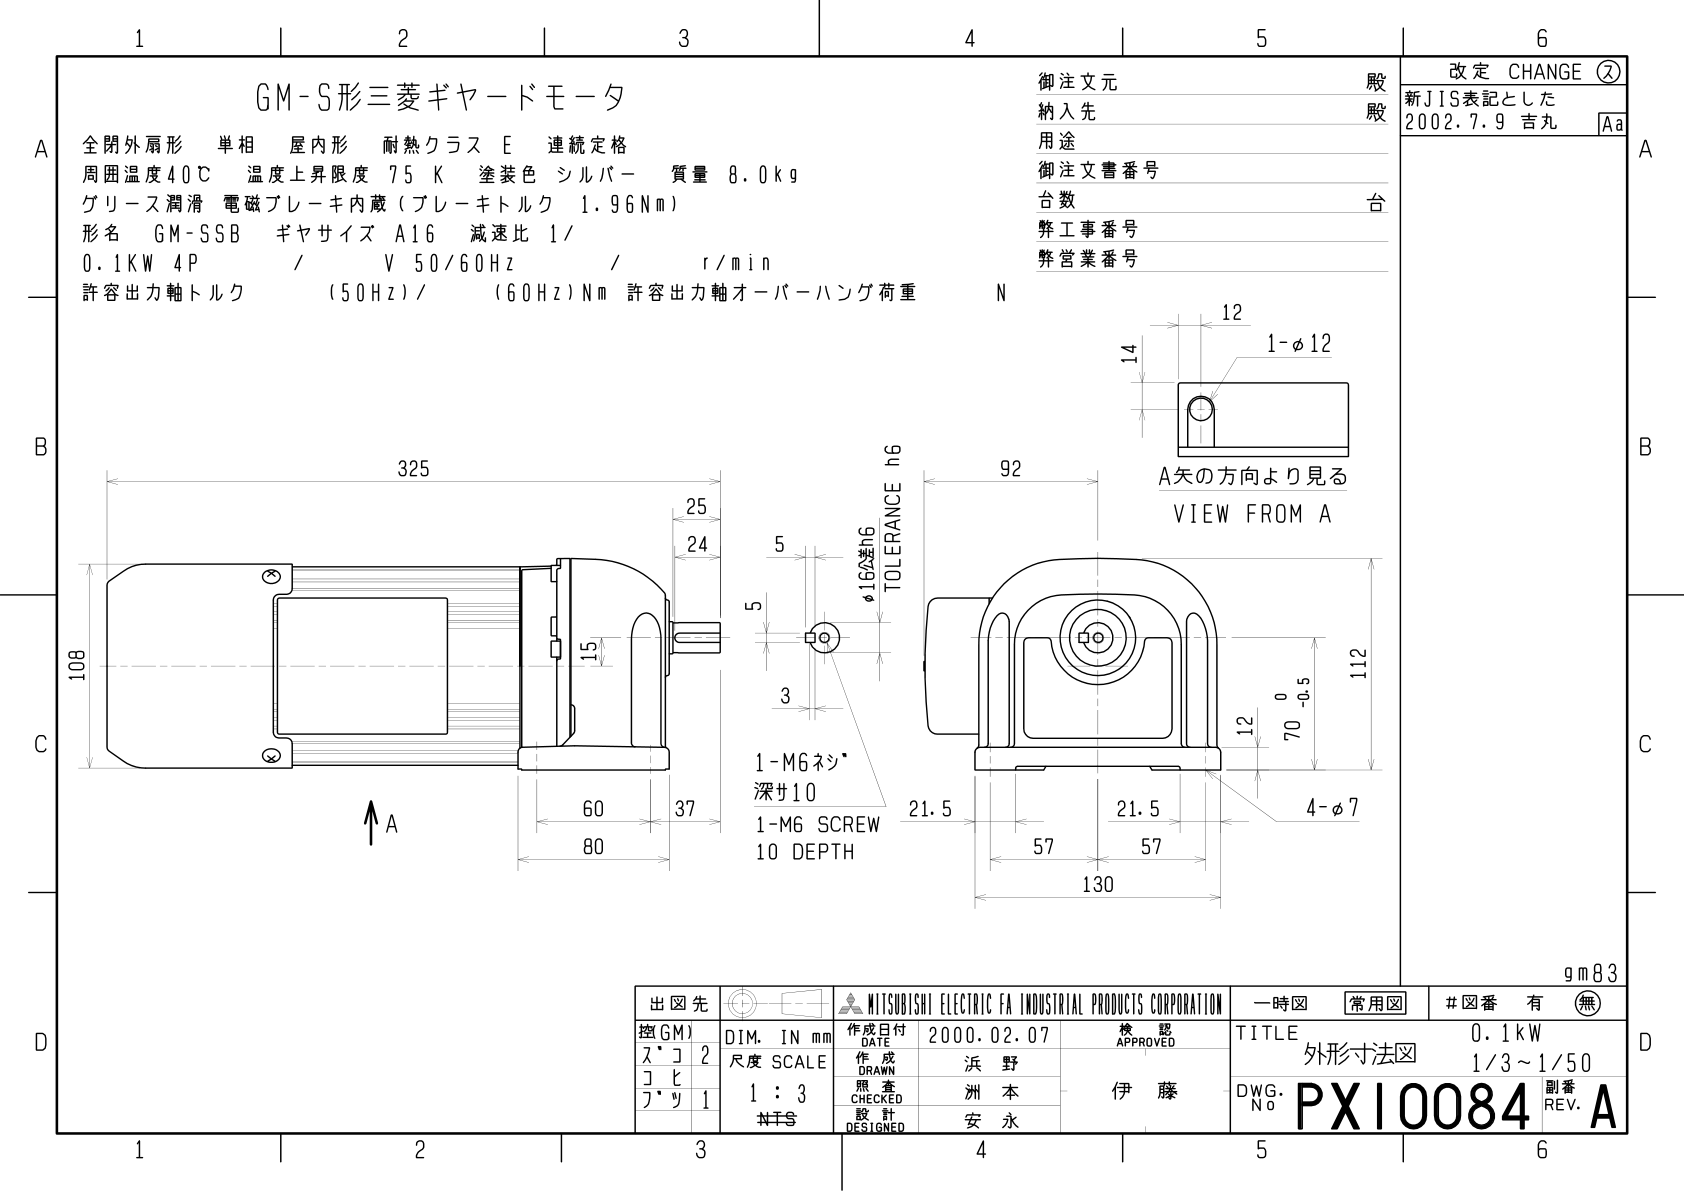GM_S_屋内＿単相_脚: (15, 6, 1684, 1191)
